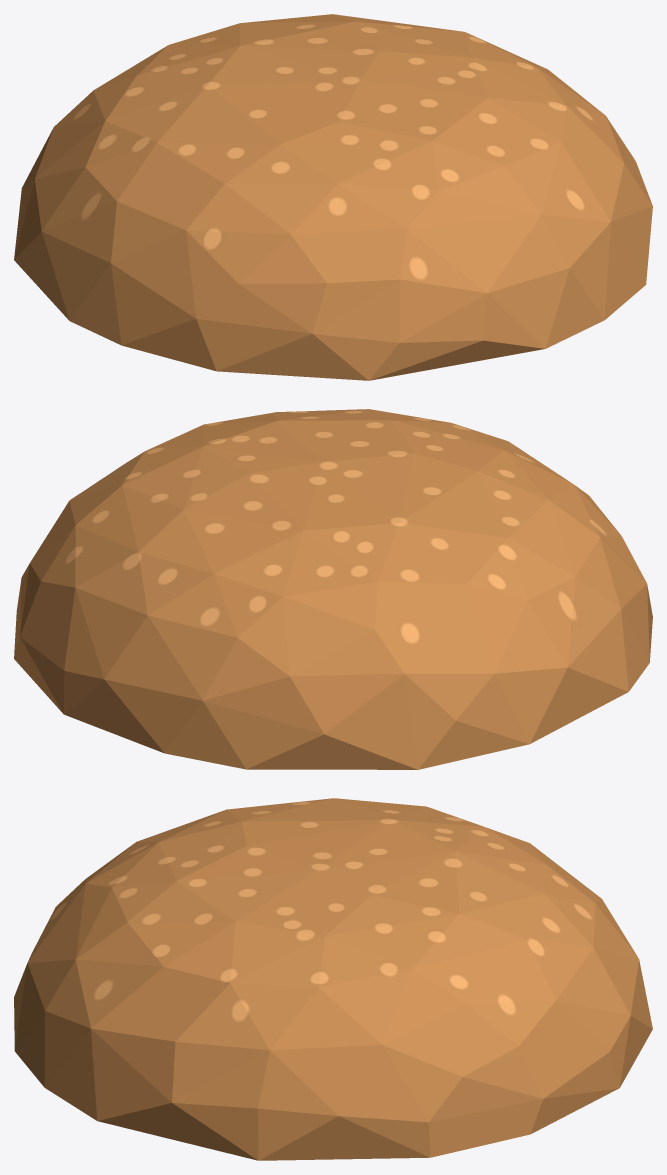
The model's file is bun_top_low.fbx.
3 views of the same model, one above another, from view 1: azimuth 30°, elevation 25°; view 2: azimuth 150°, elevation 25°; view 3: azimuth 270°, elevation 25° (orthographic).
Parts seen in each view (by area): view 1: Sphere.003; view 2: Sphere.003; view 3: Sphere.003.
Boxes of the visible parts, left/top/right/bottom form: Sphere.003: left=14, top=14, right=652, bottom=380; Sphere.003: left=14, top=409, right=652, bottom=769; Sphere.003: left=14, top=798, right=652, bottom=1160.
Size of the model in its own units: 710 by 205 by 713.
